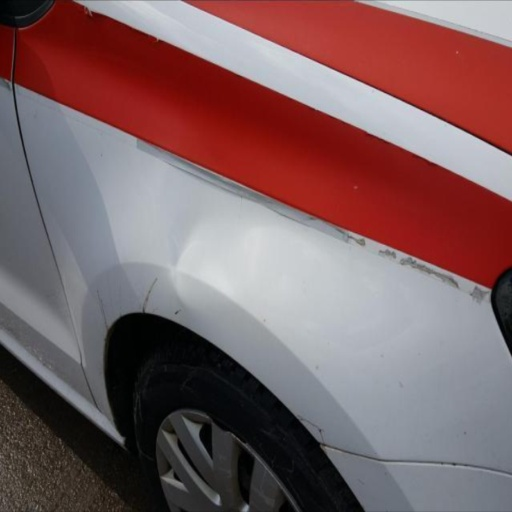dent: (125, 136, 487, 304), (41, 185, 112, 327), (165, 215, 233, 317)
rust: (327, 222, 488, 308)
scratch: (143, 148, 324, 234), (296, 413, 326, 455), (139, 271, 159, 311), (172, 309, 181, 318)
